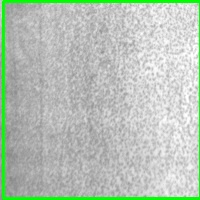pitted_surface: (3, 1, 200, 198)
